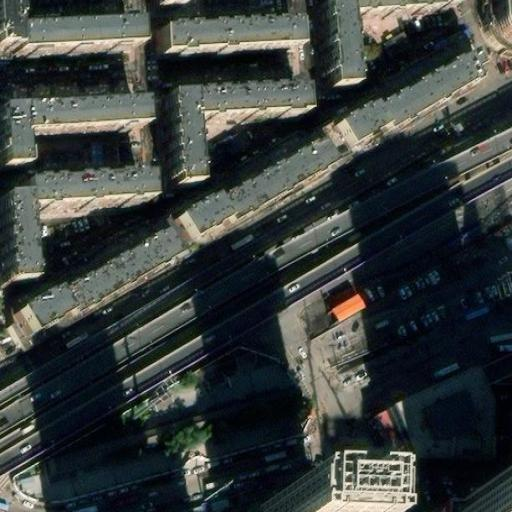building: (6, 247, 169, 361), (165, 153, 326, 266), (1, 171, 149, 283), (166, 80, 307, 184), (331, 55, 473, 152), (327, 0, 463, 86), (0, 100, 144, 166), (0, 0, 141, 50), (161, 8, 297, 43), (325, 285, 370, 325)
